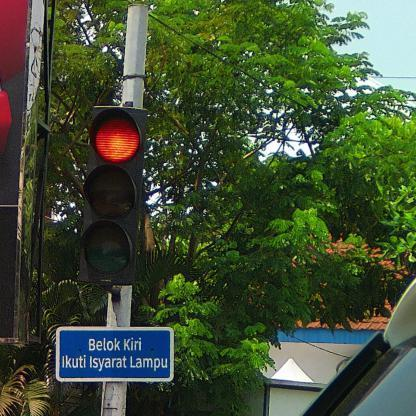red: (76, 107, 146, 284)
